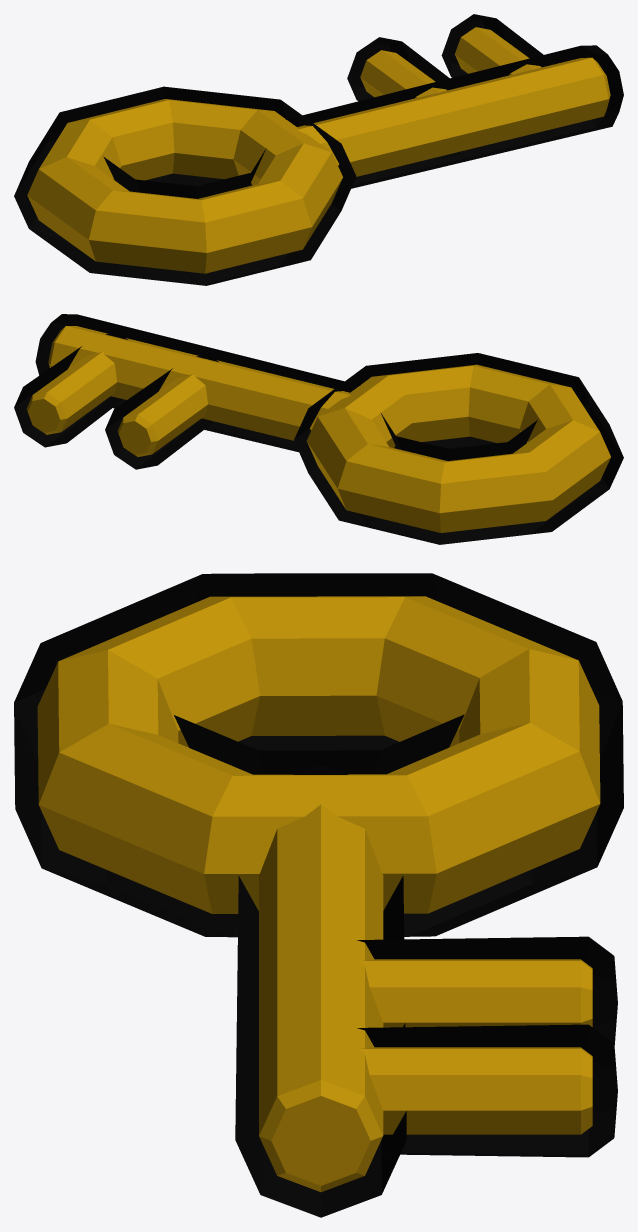
The model's file is key.fbx.
3 views of the same model, one above another, from view 1: azimuth 30°, elevation 25°; view 2: azimuth 150°, elevation 25°; view 3: azimuth 270°, elevation 25° (orthographic). The views are drawn at different scales.
Visible parts, largest first — view 1: pasted__pTorus8, pasted__pTorus9; view 2: pasted__pTorus8, pasted__pTorus9; view 3: pasted__pTorus8, pasted__pTorus9.
Part boxes in pixels (bbox=[...]): pasted__pTorus8: bbox=[27, 27, 610, 273]; pasted__pTorus9: bbox=[14, 14, 623, 285]; pasted__pTorus8: bbox=[26, 326, 610, 532]; pasted__pTorus9: bbox=[14, 314, 623, 544]; pasted__pTorus8: bbox=[37, 596, 600, 1192]; pasted__pTorus9: bbox=[14, 573, 623, 1217].
Size of the model in its own units: 2.02 by 0.3298 by 0.9923.
